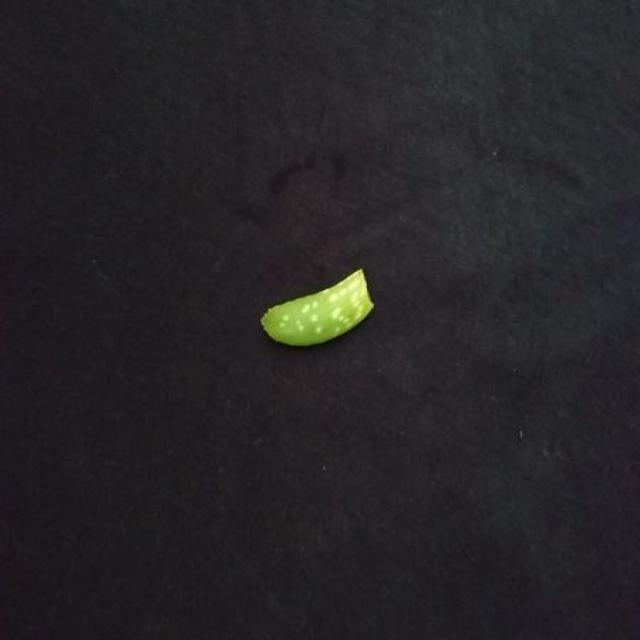alovera: (263, 269, 373, 346)
